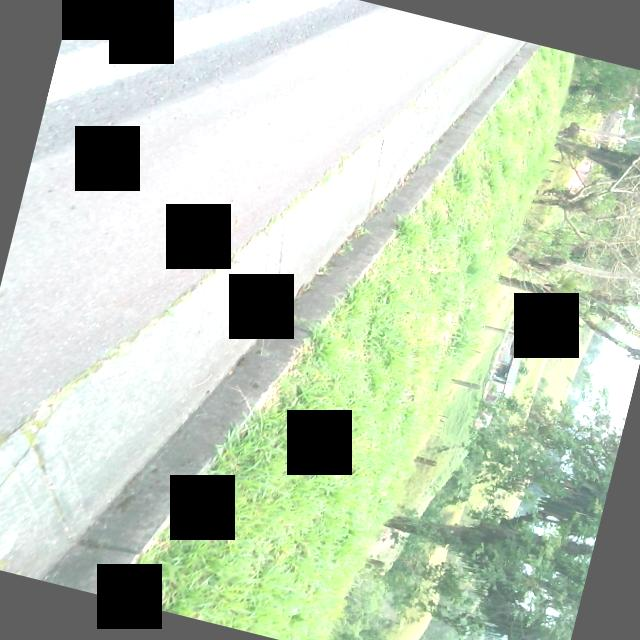DITCH: (0, 0, 620, 640), (0, 0, 544, 640), (0, 0, 538, 640)
